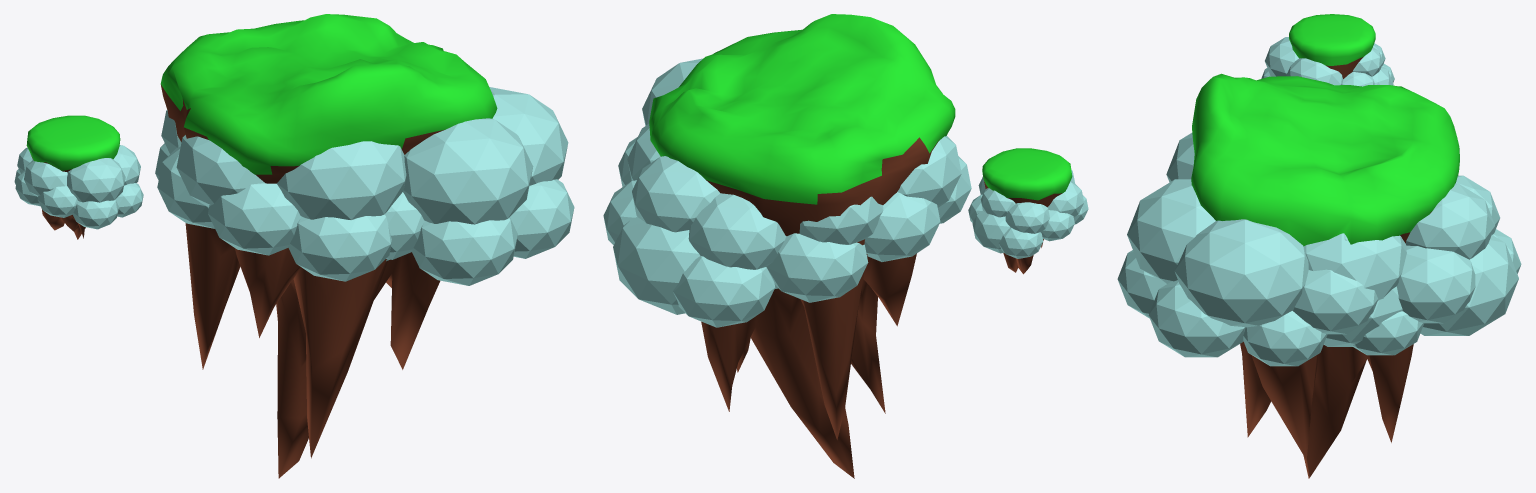
File: islandos.fbx
3 renders of one model, left to right at view 1: azimuth 30°, elevation 25°; view 2: azimuth 150°, elevation 25°; view 3: azimuth 270°, elevation 25°, orthographic. The views are drawn at different scales.
Parts seen in each view (by area): view 1: Cube.001, Icosphere.001, Icosphere, Cube; view 2: Cube.001, Icosphere.001, Icosphere, Cube; view 3: Icosphere.001, Cube.001, Cube, Icosphere.
Boxes of the visible parts, x1,y1,x2,y2 form: Cube.001: (160,14,497,478); Icosphere.001: (155,87,574,285); Icosphere: (14,145,143,229); Cube: (26,115,120,239); Cube.001: (649,14,955,478); Icosphere.001: (603,58,971,327); Icosphere: (968,170,1088,258); Cube: (982,148,1072,274); Icosphere.001: (1117,133,1521,366); Cube.001: (1191,73,1459,478); Cube: (1289,14,1375,78); Icosphere: (1261,37,1394,86).
Bounding box in the file's own units: 898 × 777 × 687.
